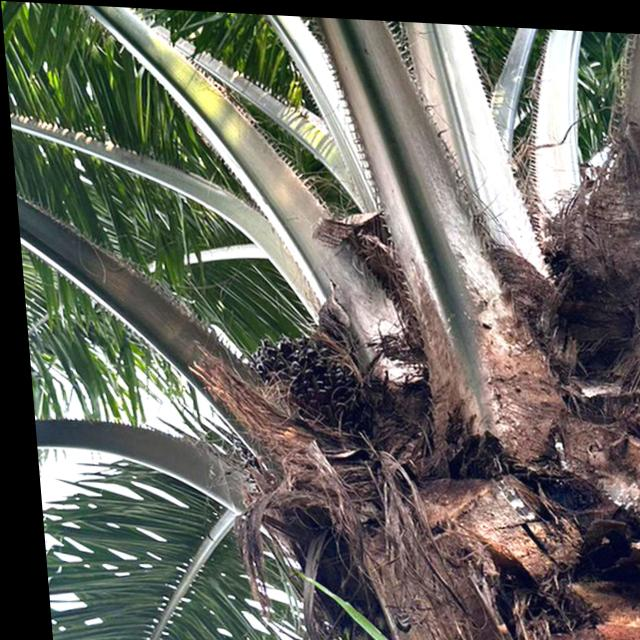ripe: (229, 311, 393, 441)
